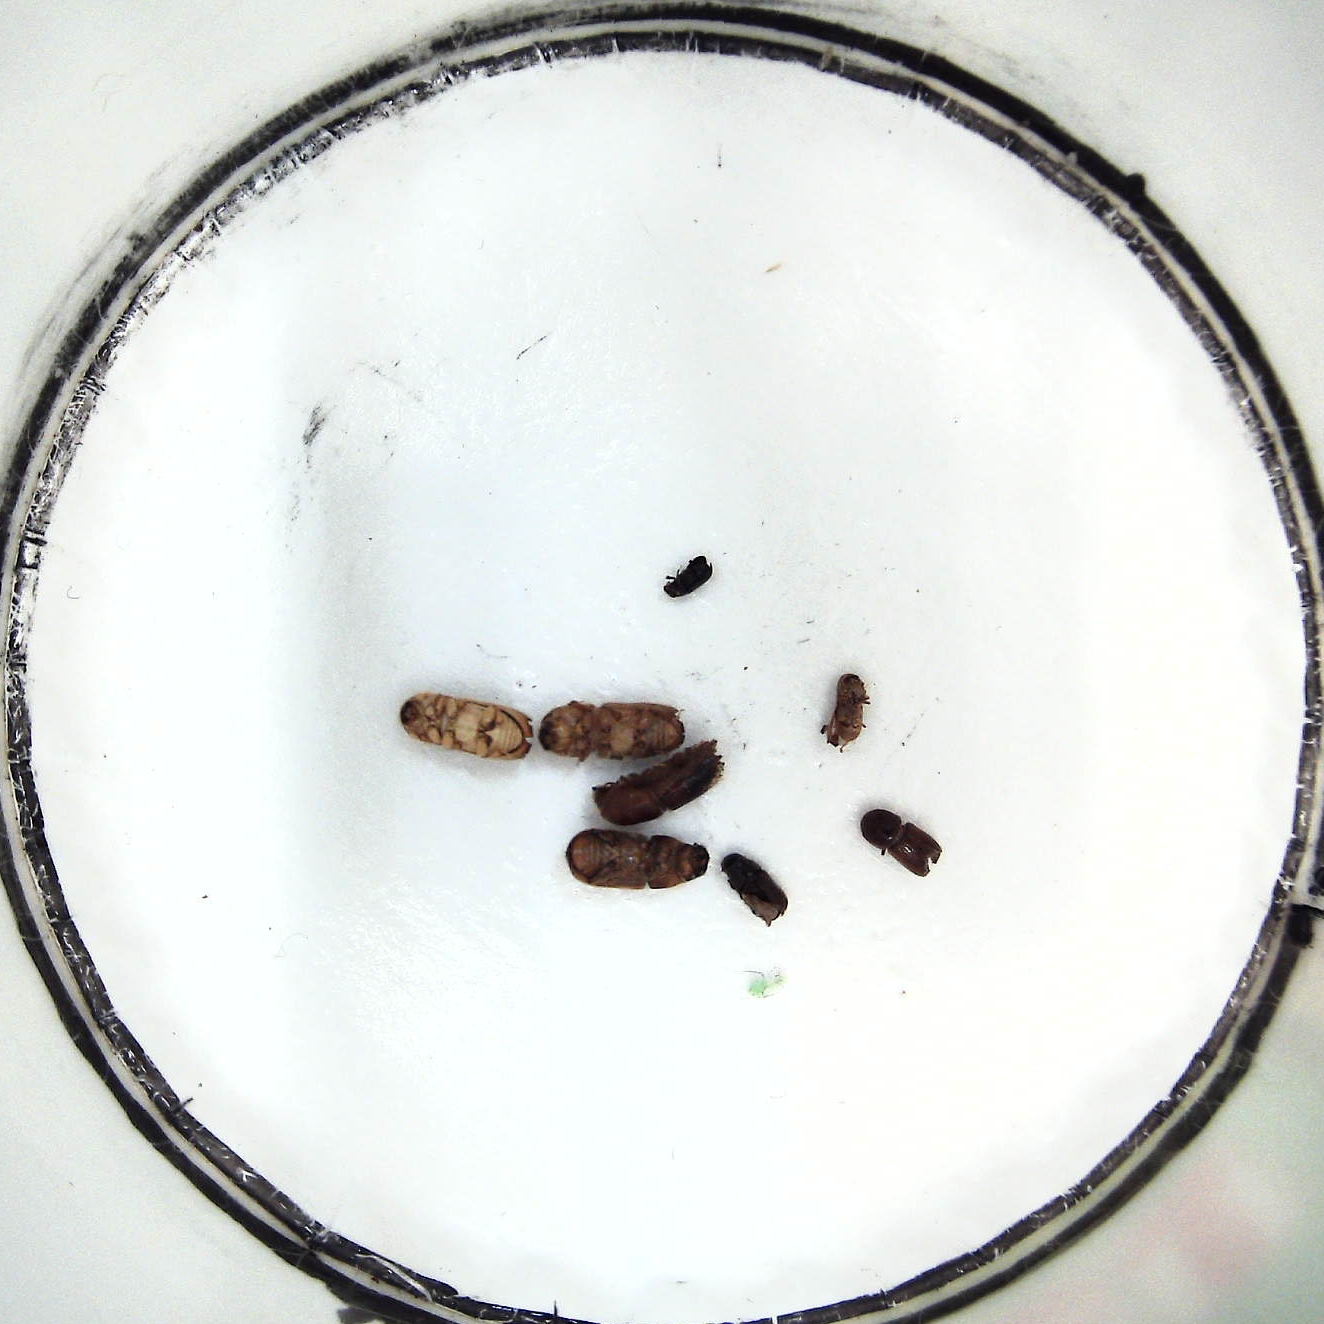Boerner: (594, 744, 727, 826), (398, 690, 535, 763), (538, 703, 683, 761)
Leconte: (564, 829, 707, 895)
Linnaeus: (858, 809, 942, 877)
acuminatus: (821, 673, 871, 749)
armandi: (719, 852, 789, 928)
coleoptera: (662, 553, 713, 598)
